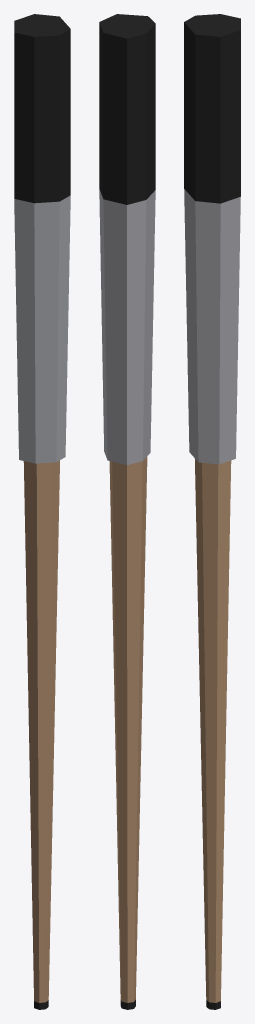
Rendered from poolCueWeapon.glb.
3 renders of one model, left to right at view 1: azimuth 90°, elevation 25°; view 2: azimuth 150°, elevation 25°; view 3: azimuth 270°, elevation 25°, orthographic.
Parts seen in each view (by area): view 1: PoolStick.001; view 2: PoolStick.001; view 3: PoolStick.001.
Boxes of the visible parts, box(x1,y1,x2,y2) form: PoolStick.001: box(14, 14, 70, 1009); PoolStick.001: box(99, 14, 155, 1009); PoolStick.001: box(184, 14, 240, 1009).
Size of the model in its own units: 0.0504 by 1 by 0.0525.
1 material, 1 textured.
